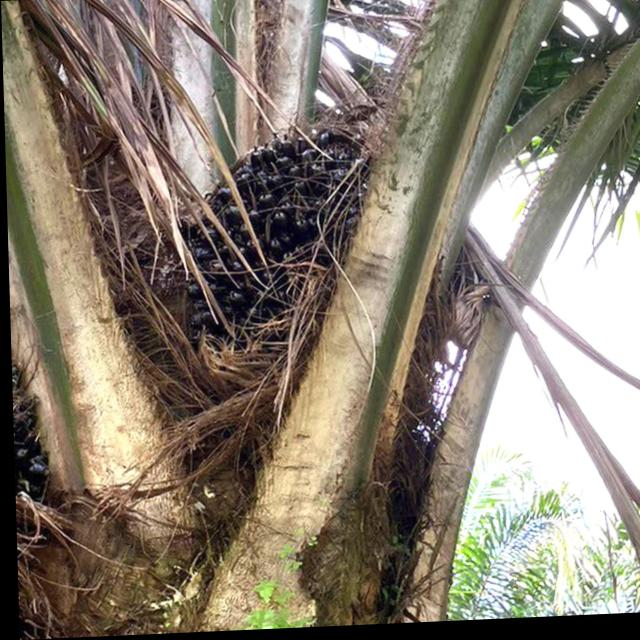unripe: (160, 110, 385, 420)
